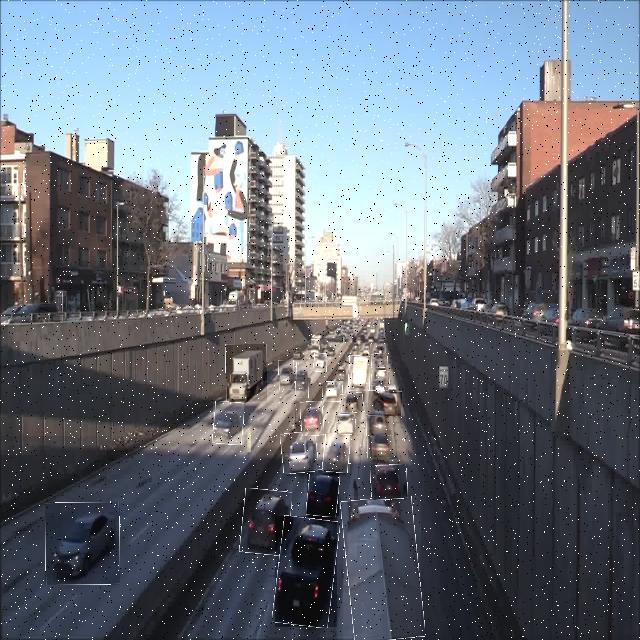Car: (45, 502, 120, 585), (240, 489, 290, 555), (281, 432, 318, 473), (307, 470, 339, 516), (213, 402, 244, 445), (371, 464, 407, 500), (323, 434, 350, 473), (368, 391, 402, 416), (300, 401, 324, 436), (367, 430, 392, 458), (366, 414, 391, 436), (296, 362, 309, 398), (340, 393, 364, 412), (279, 360, 294, 390), (335, 415, 356, 435), (323, 382, 343, 402), (372, 371, 390, 387), (372, 353, 388, 368), (314, 354, 327, 372)
Truck: (343, 496, 421, 640), (275, 516, 337, 627), (226, 344, 267, 402), (349, 356, 370, 391)
